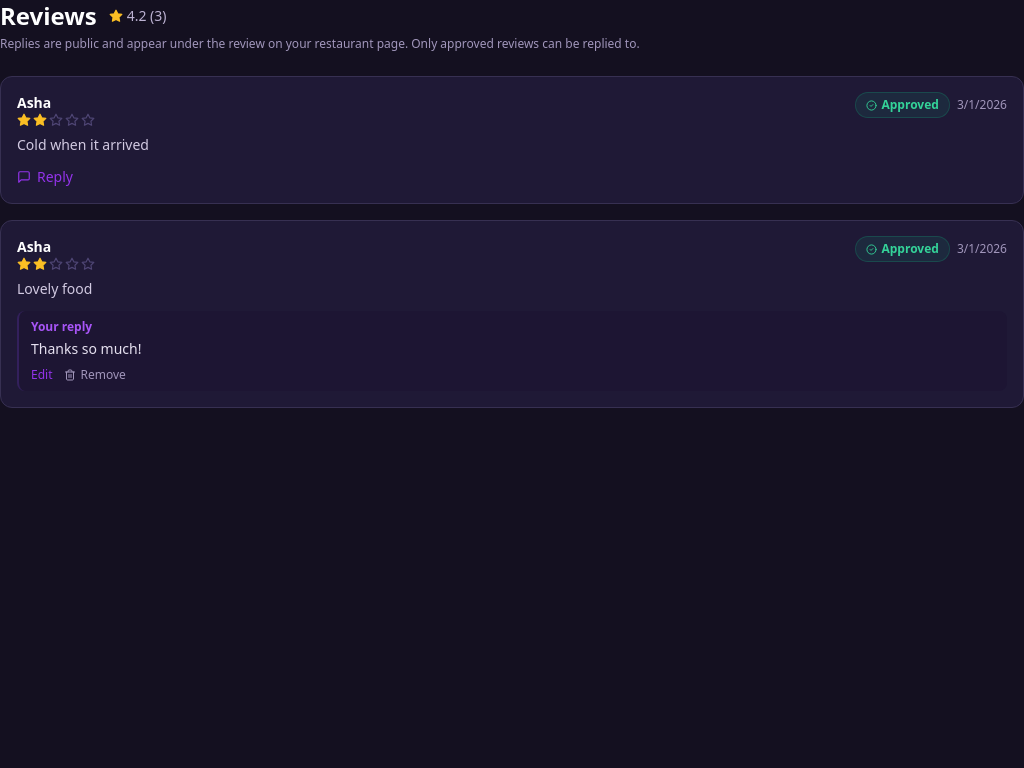
Test case: Owner Reviews page — replies › asks for confirmation before removing a reply, and removes it on confirm
Expected: the text "Thanks so much!" is shown, top-left (31, 339), bottom-right (142, 358)
Click the button "Remove" at (95, 375), box top-left (64, 367), bottom-right (126, 383)
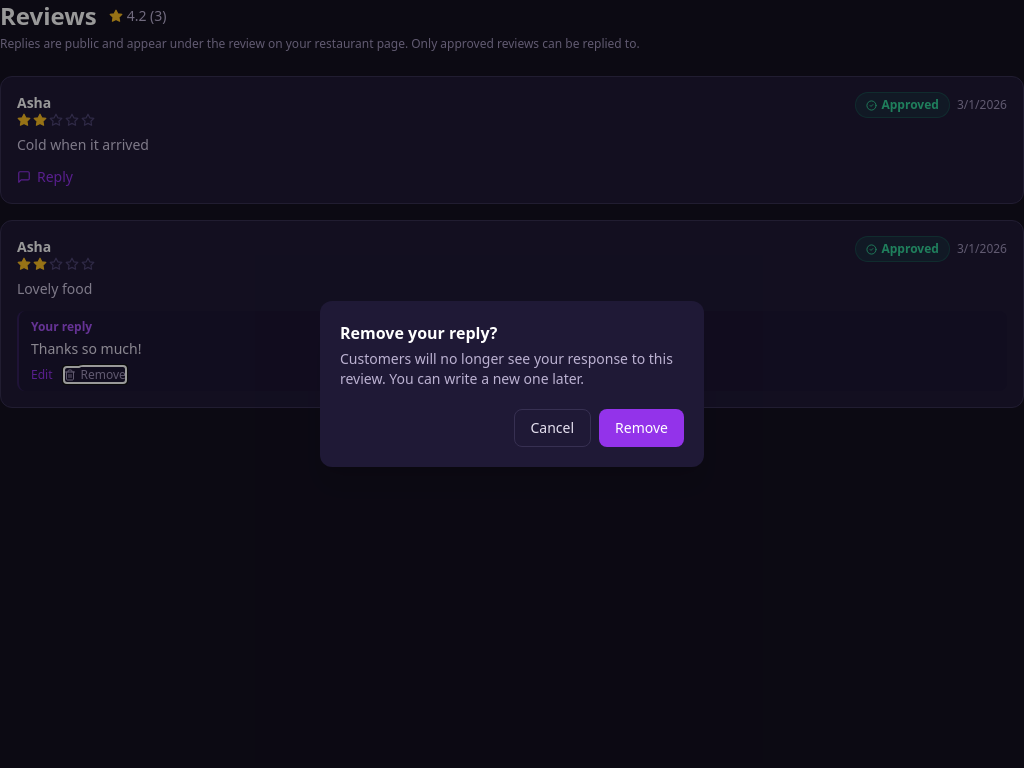
Result: the text "Remove your reply?" is shown at top-left (340, 322), bottom-right (498, 344)
Click the button "Remove" at (642, 428), box top-left (599, 409), bottom-right (684, 447)
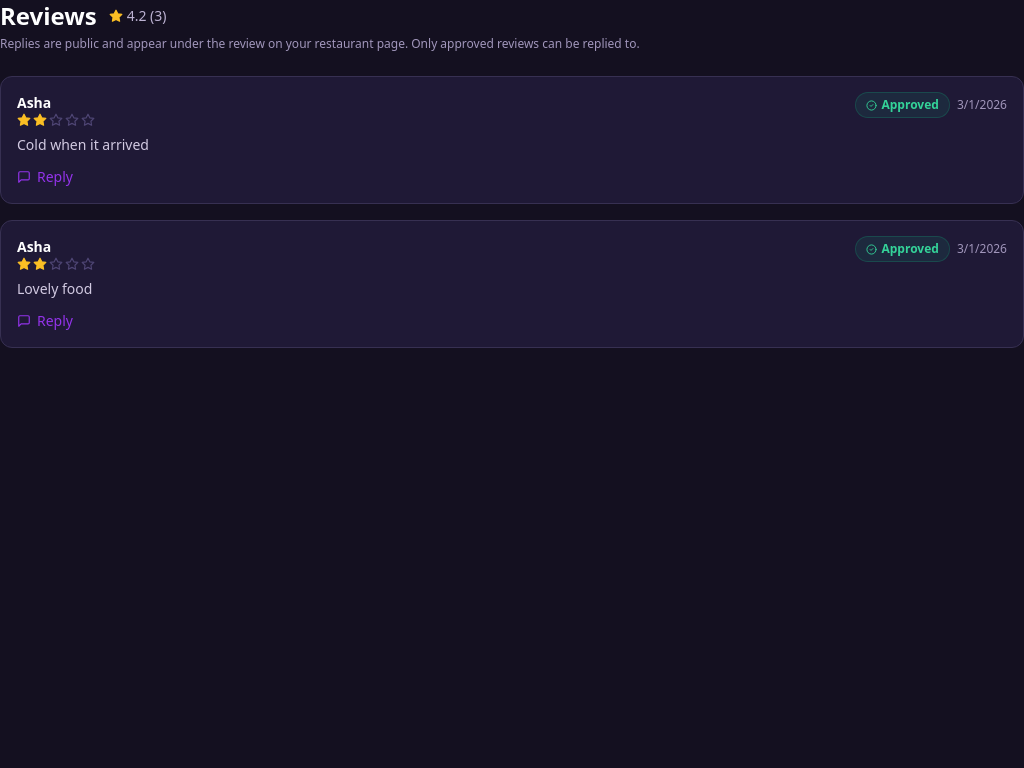
Result: the text "Thanks so much!" is gone
